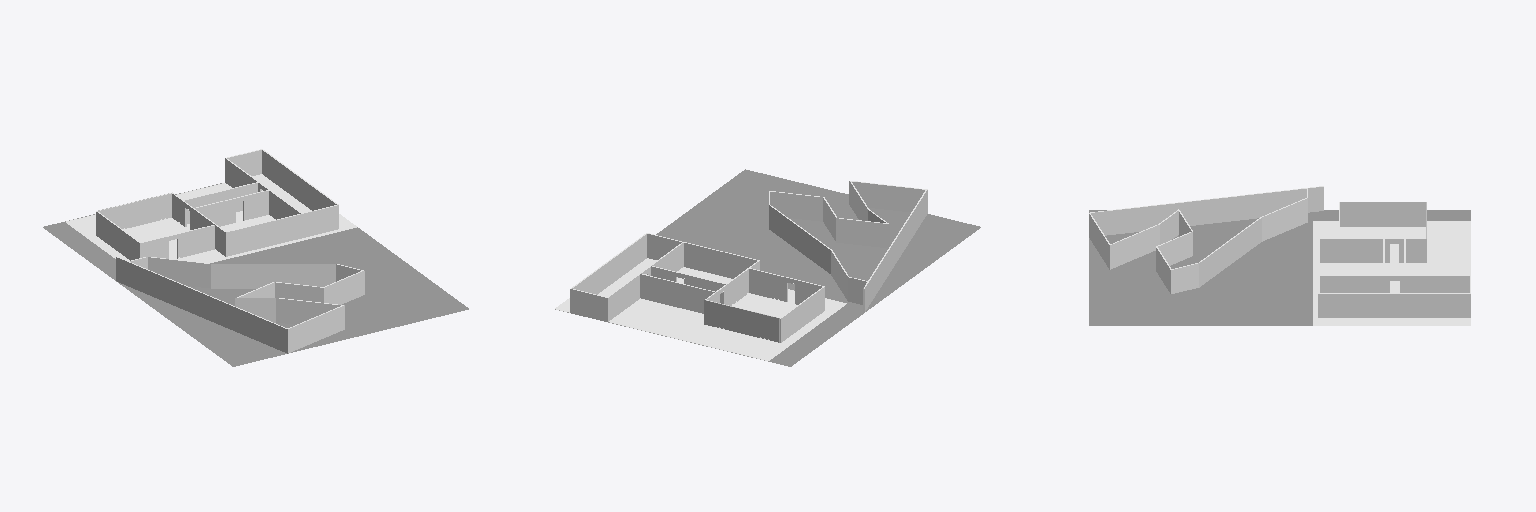
Rendered from house02.obj.
3 renders of one model, left to right at view 1: azimuth 30°, elevation 25°; view 2: azimuth 150°, elevation 25°; view 3: azimuth 270°, elevation 25°, orthographic.
Parts seen in each view (by area): view 1: ground_1, wall_13_83, room_24_146, wall_21_130, wall_12_77, wall_9_58, wall_1_7, wall_3_22, wall_14_89, wall_6_41, wall_22_136, wall_15_94 (+9 smaller); view 2: ground_1, room_24_146, wall_1_6, wall_5_34, wall_13_83, wall_9_58, wall_21_131, wall_12_76, wall_14_88, wall_7_47, wall_17_106, wall_3_23 (+6 smaller); view 3: ground_1, room_24_146, wall_13_82, wall_9_59, wall_7_46, wall_4_29, wall_2_14, wall_21_131, wall_15_95, wall_22_137, wall_18_112, wall_20_125.
Boxes of the visible parts, x1=… form: ground_1: x1=43, y1=183, x2=468, y2=366; wall_13_83: x1=116, y1=257, x2=287, y2=353; room_24_146: x1=66, y1=174, x2=356, y2=262; wall_21_130: x1=211, y1=264, x2=335, y2=288; wall_12_77: x1=226, y1=214, x2=301, y2=256; wall_9_58: x1=262, y1=150, x2=336, y2=210; wall_1_7: x1=98, y1=193, x2=171, y2=228; wall_3_22: x1=140, y1=225, x2=214, y2=258; wall_14_89: x1=288, y1=305, x2=344, y2=352; wall_6_41: x1=195, y1=191, x2=268, y2=226; wall_22_136: x1=148, y1=257, x2=210, y2=288; wall_15_94: x1=276, y1=298, x2=340, y2=324; ground_1: x1=555, y1=169, x2=980, y2=366; room_24_146: x1=555, y1=258, x2=846, y2=360; wall_1_6: x1=704, y1=300, x2=779, y2=342; wall_5_34: x1=640, y1=274, x2=714, y2=313; wall_13_83: x1=864, y1=190, x2=927, y2=312; wall_9_58: x1=572, y1=234, x2=646, y2=294; wall_21_131: x1=769, y1=205, x2=830, y2=273; wall_12_76: x1=684, y1=243, x2=756, y2=278; wall_14_88: x1=852, y1=182, x2=924, y2=211; wall_7_47: x1=607, y1=243, x2=683, y2=321; wall_17_106: x1=836, y1=218, x2=889, y2=248; wall_3_23: x1=749, y1=269, x2=821, y2=303; ground_1: x1=1089, y1=210, x2=1470, y2=325; room_24_146: x1=1313, y1=221, x2=1470, y2=325; wall_13_82: x1=1091, y1=187, x2=1323, y2=235; wall_9_59: x1=1318, y1=294, x2=1470, y2=317; wall_7_46: x1=1320, y1=276, x2=1469, y2=292; wall_4_29: x1=1340, y1=202, x2=1425, y2=226; wall_2_14: x1=1339, y1=239, x2=1426, y2=262; wall_21_131: x1=1199, y1=218, x2=1261, y2=287; wall_15_95: x1=1110, y1=225, x2=1159, y2=269; wall_22_137: x1=1262, y1=198, x2=1307, y2=241; wall_18_112: x1=1158, y1=232, x2=1192, y2=265; wall_20_125: x1=1171, y1=263, x2=1198, y2=293.
Size of the model in its own units: 2544 by 250 by 3559.